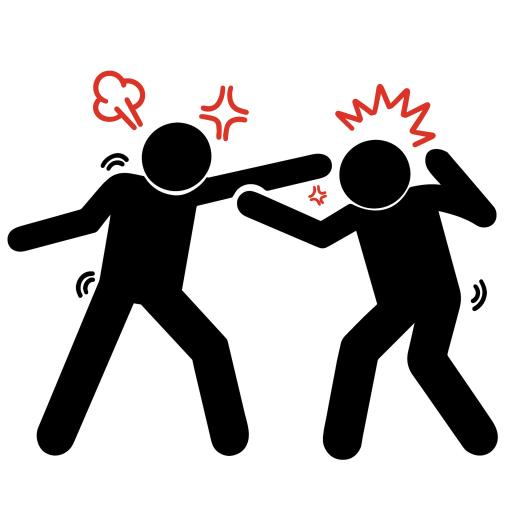fight: (60, 72, 500, 494)
